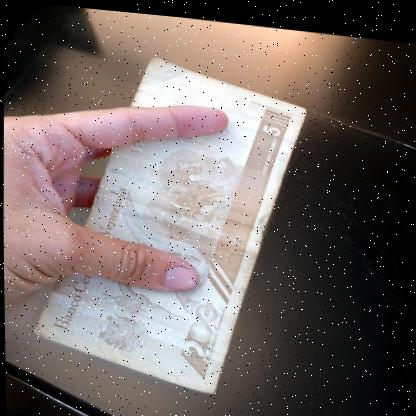five-back-vef: (27, 41, 310, 399)
